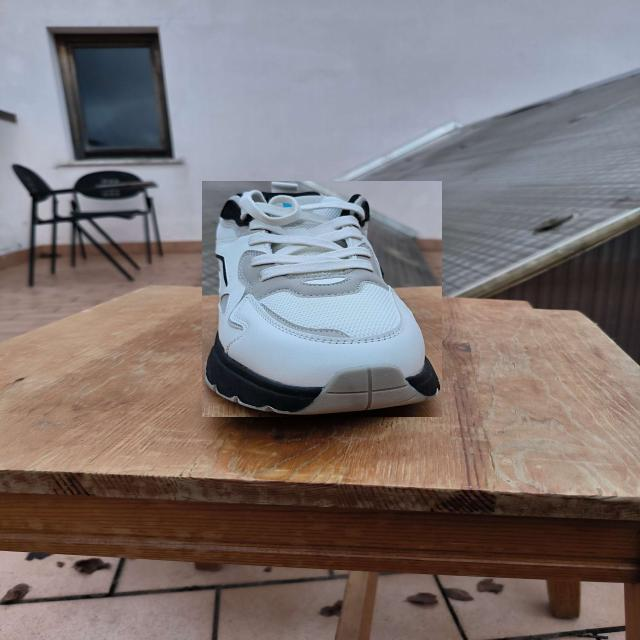shoe: (202, 182, 442, 418)
